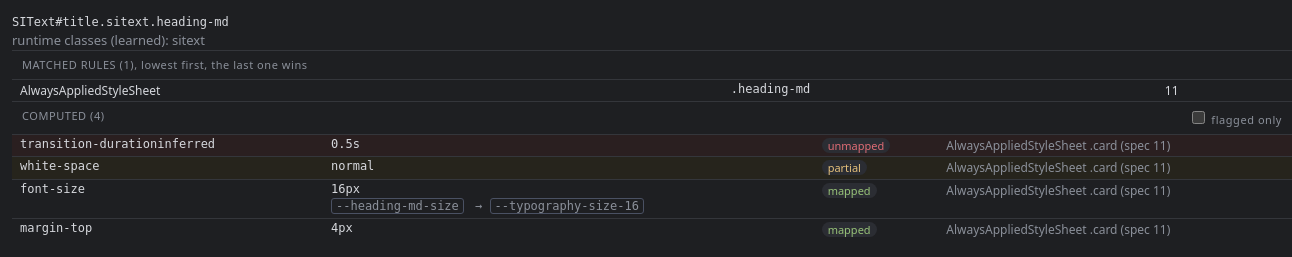
it: canvas and explain › "flagged only" hides the properties that are drawn faithfully
Expected: the text "margin-top" is shown, [12,218,323,240]
Click the checkbox labelled "flagged only" at (1198, 118), box [1192,111,1205,124]
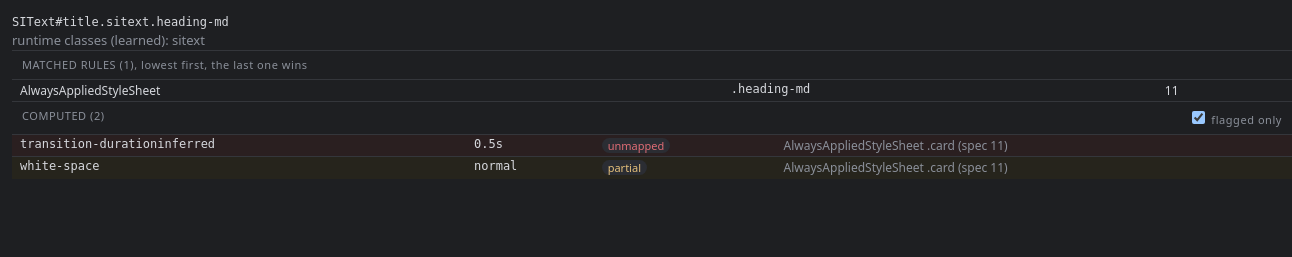
Expected: the text "transition-duration" is shown, [20,137,157,151]
Expected: the text "margin-top" is gone
